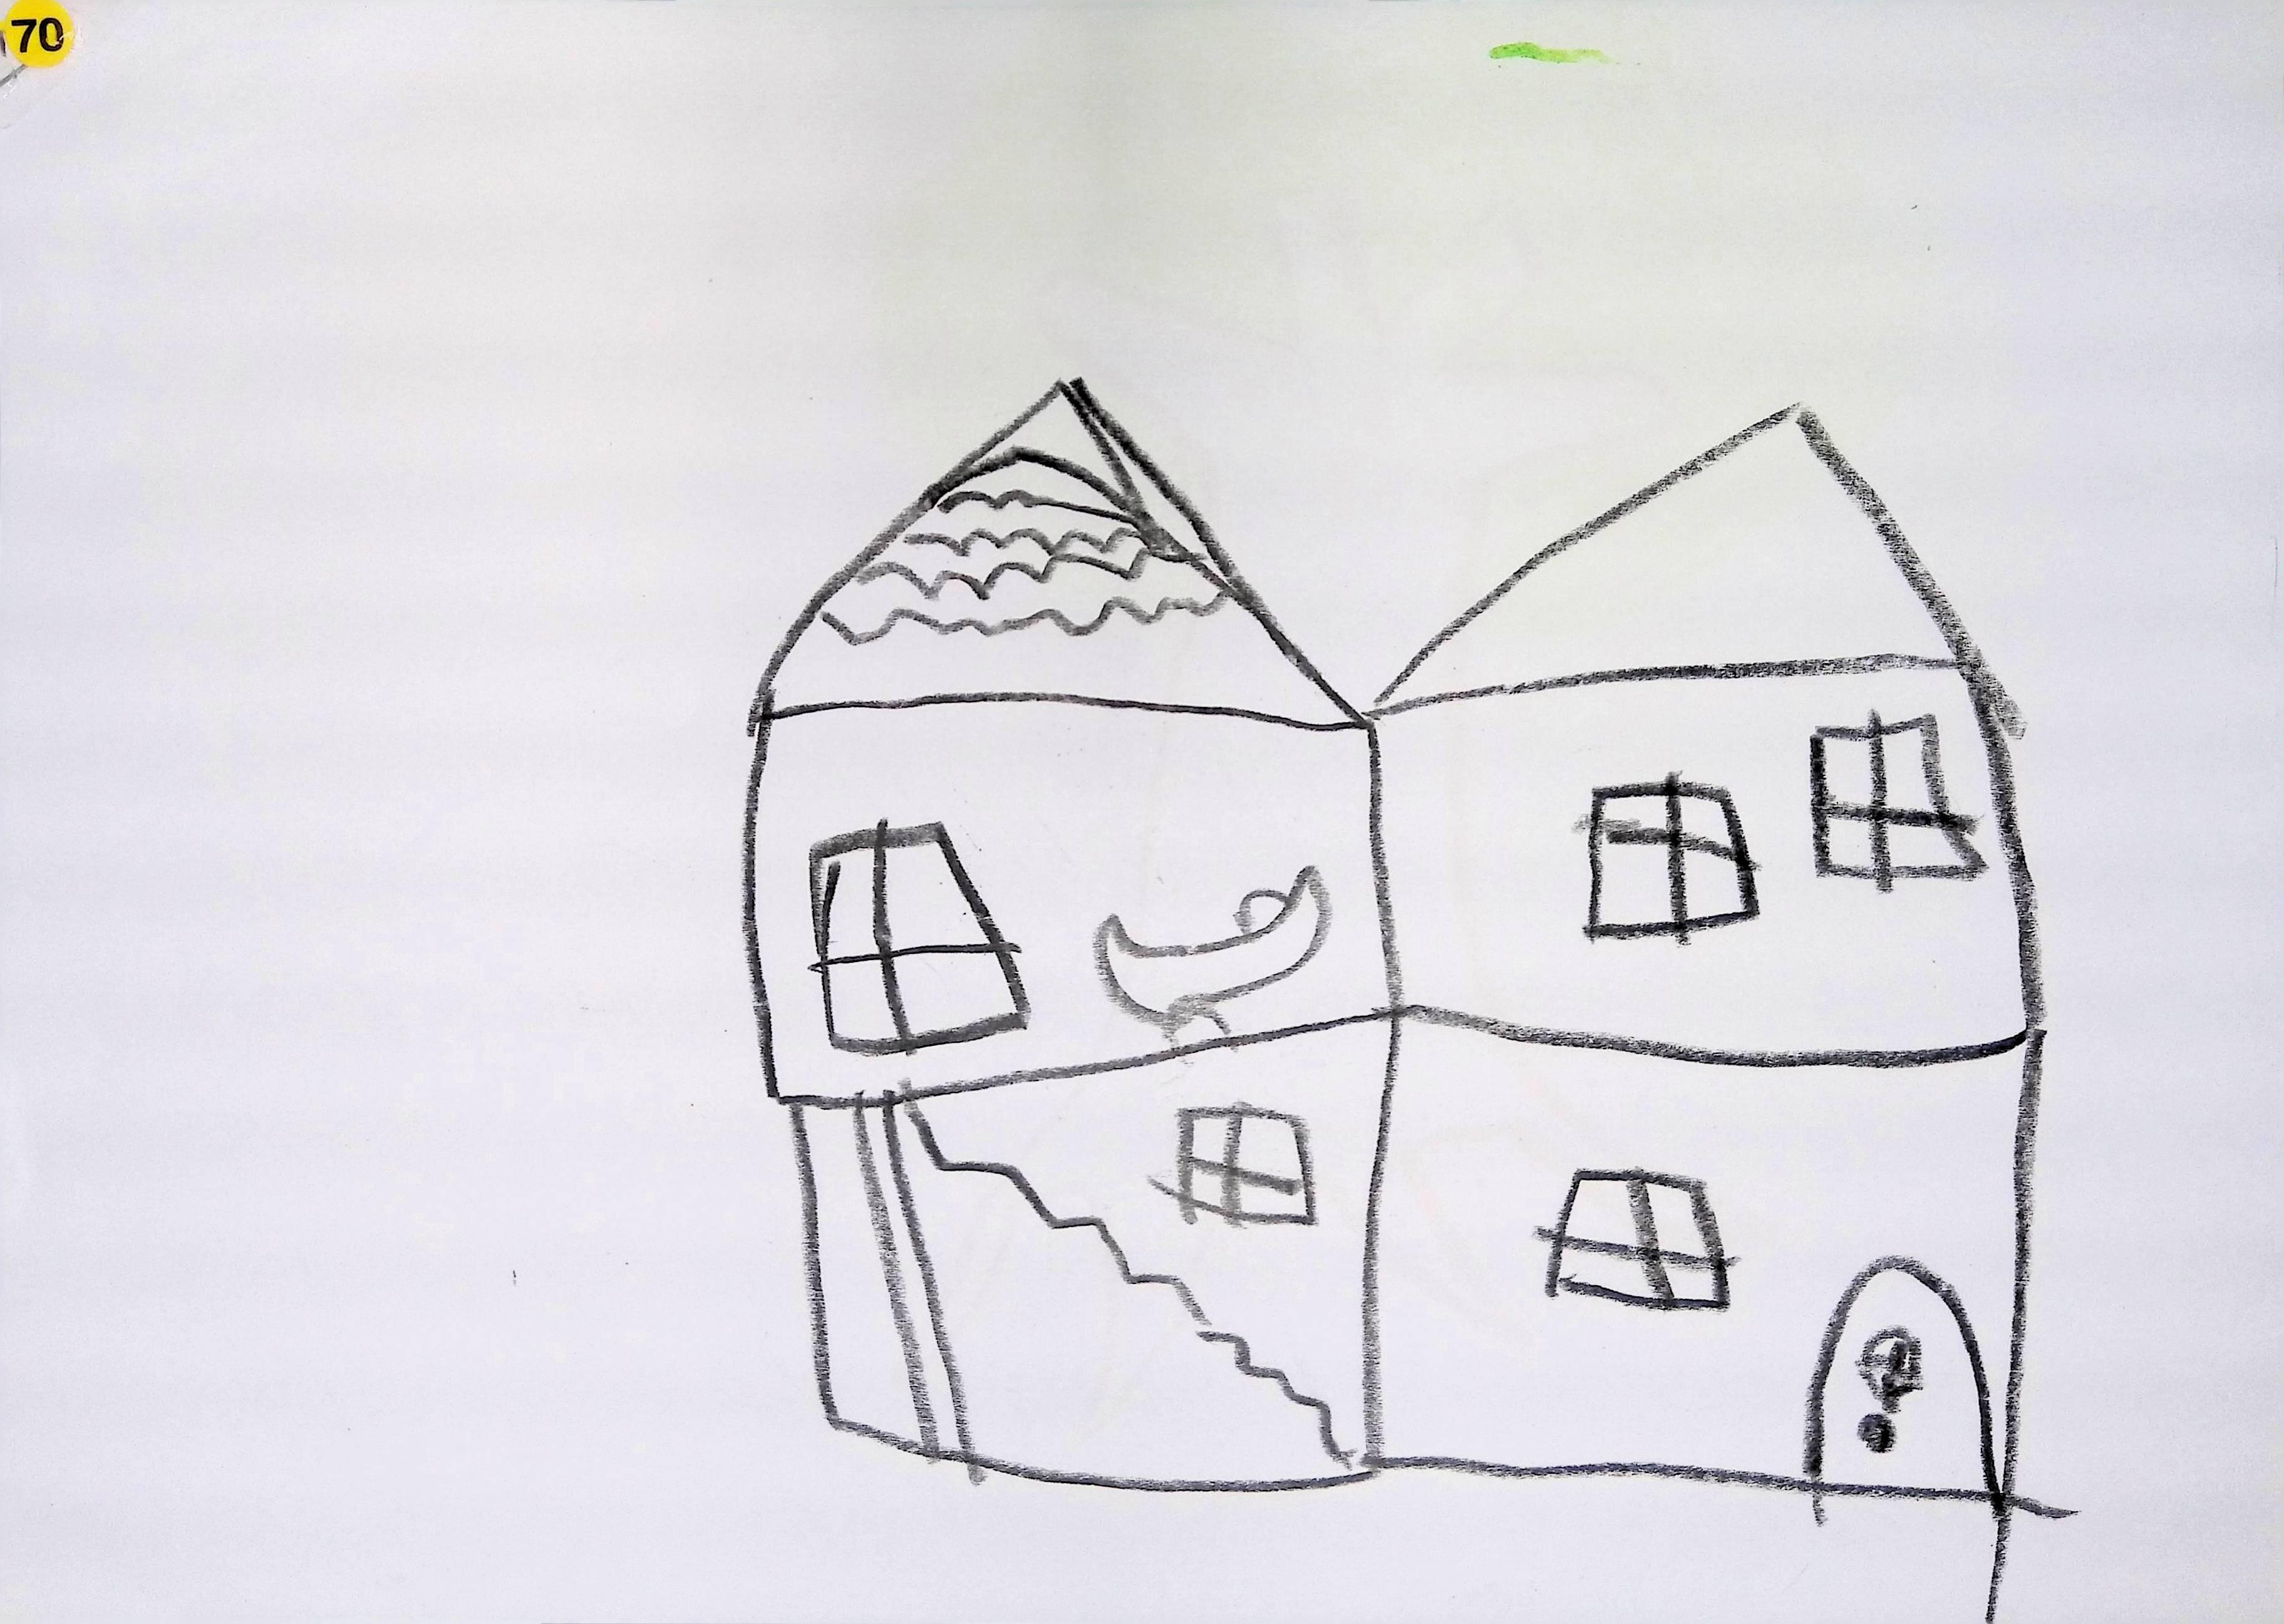door: (1806, 1258, 2001, 1499)
house: (1369, 404, 2049, 1501), (745, 380, 1397, 1490)
roof: (752, 380, 1360, 728), (1397, 422, 1950, 694)
wall: (1376, 642, 2045, 1499), (750, 700, 1393, 1489)
window: (810, 823, 1028, 1055), (1813, 712, 1989, 891), (1588, 772, 1760, 942), (1541, 1171, 1738, 1311), (1153, 1104, 1316, 1225), (1859, 1327, 1926, 1415)
